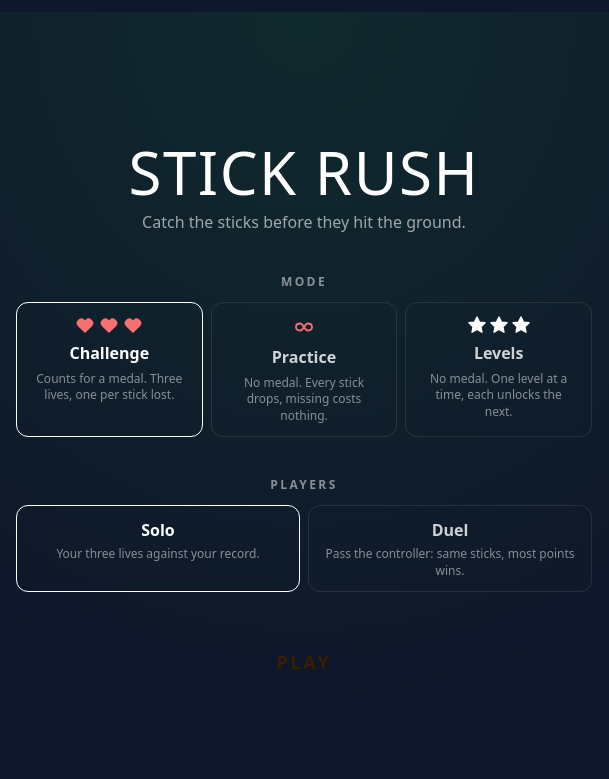
Test: the website menu opens on the challenge › practice is one tap away, with its sticks and its speed behind «Más opciones»
This screenshot has width=609, height=779.
Click the button "Practice No medal. Every stick drops, missing costs nothing.".
click(304, 370)  # box top-left (211, 302), bottom-right (397, 437)
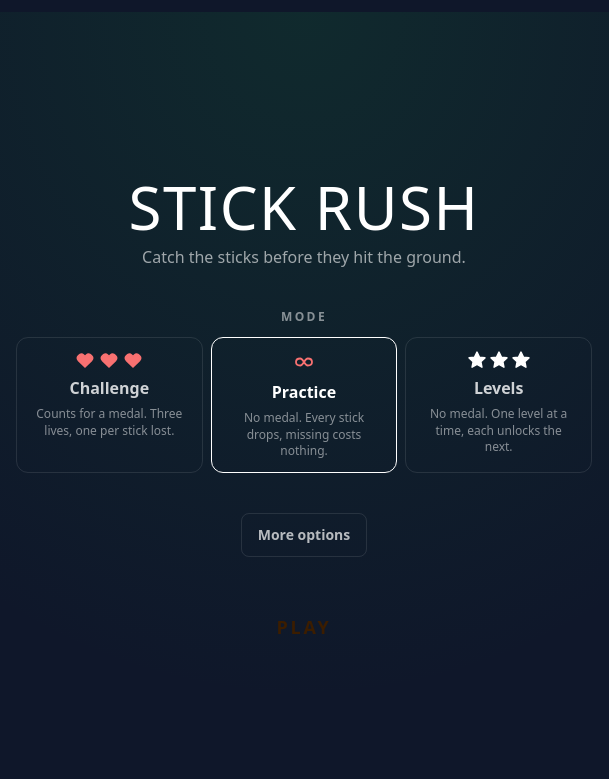
Expected: the text "Number of sticks" is not shown
Expected: the text "Length" is not shown
Click the button "More options".
click(304, 535)  # box top-left (241, 513), bottom-right (367, 557)
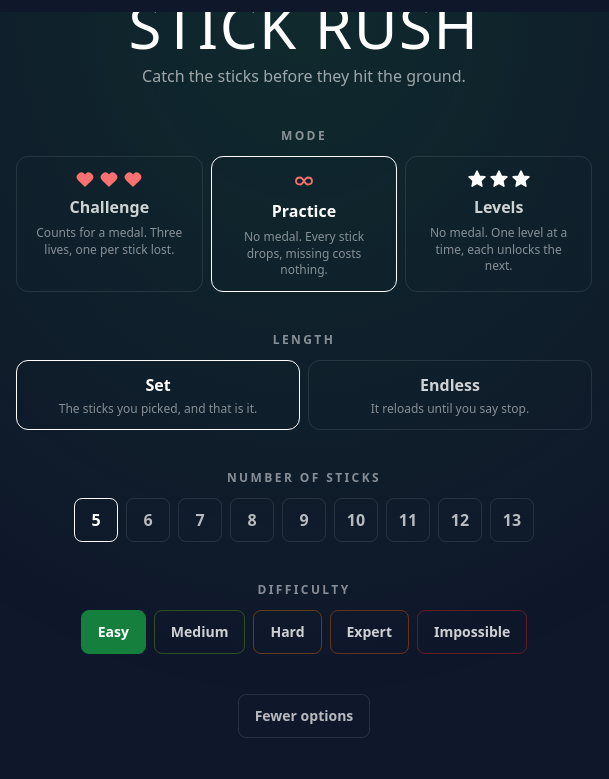
Expected: the heading "Number of sticks" is shown, top-left (227, 469), bottom-right (381, 486)
Expected: the heading "Difficulty" is shown, top-left (258, 581), bottom-right (351, 598)
Expected: the heading "Length" is shown, top-left (273, 330), bottom-right (335, 348)
Click the button "Fewer options".
click(304, 716)  # box top-left (238, 694), bottom-right (370, 738)
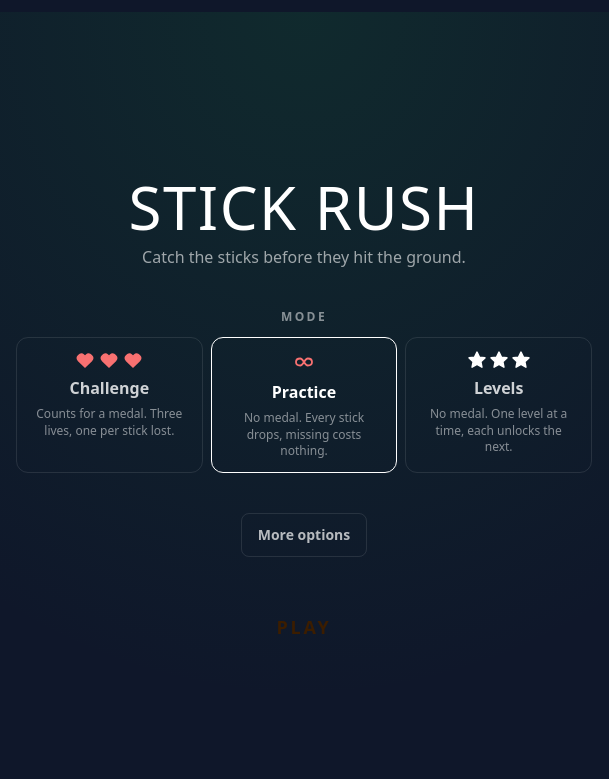
Expected: the heading "Number of sticks" is gone
